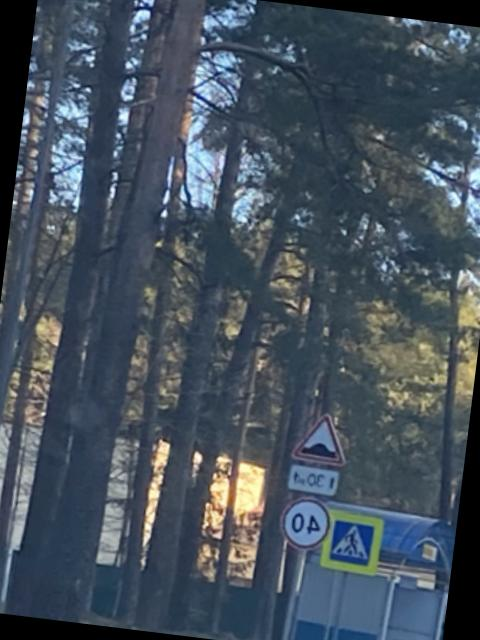crosswalk-sign: (321, 507, 390, 578)
